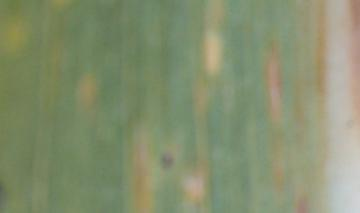tarspot: (160, 151, 175, 169)
